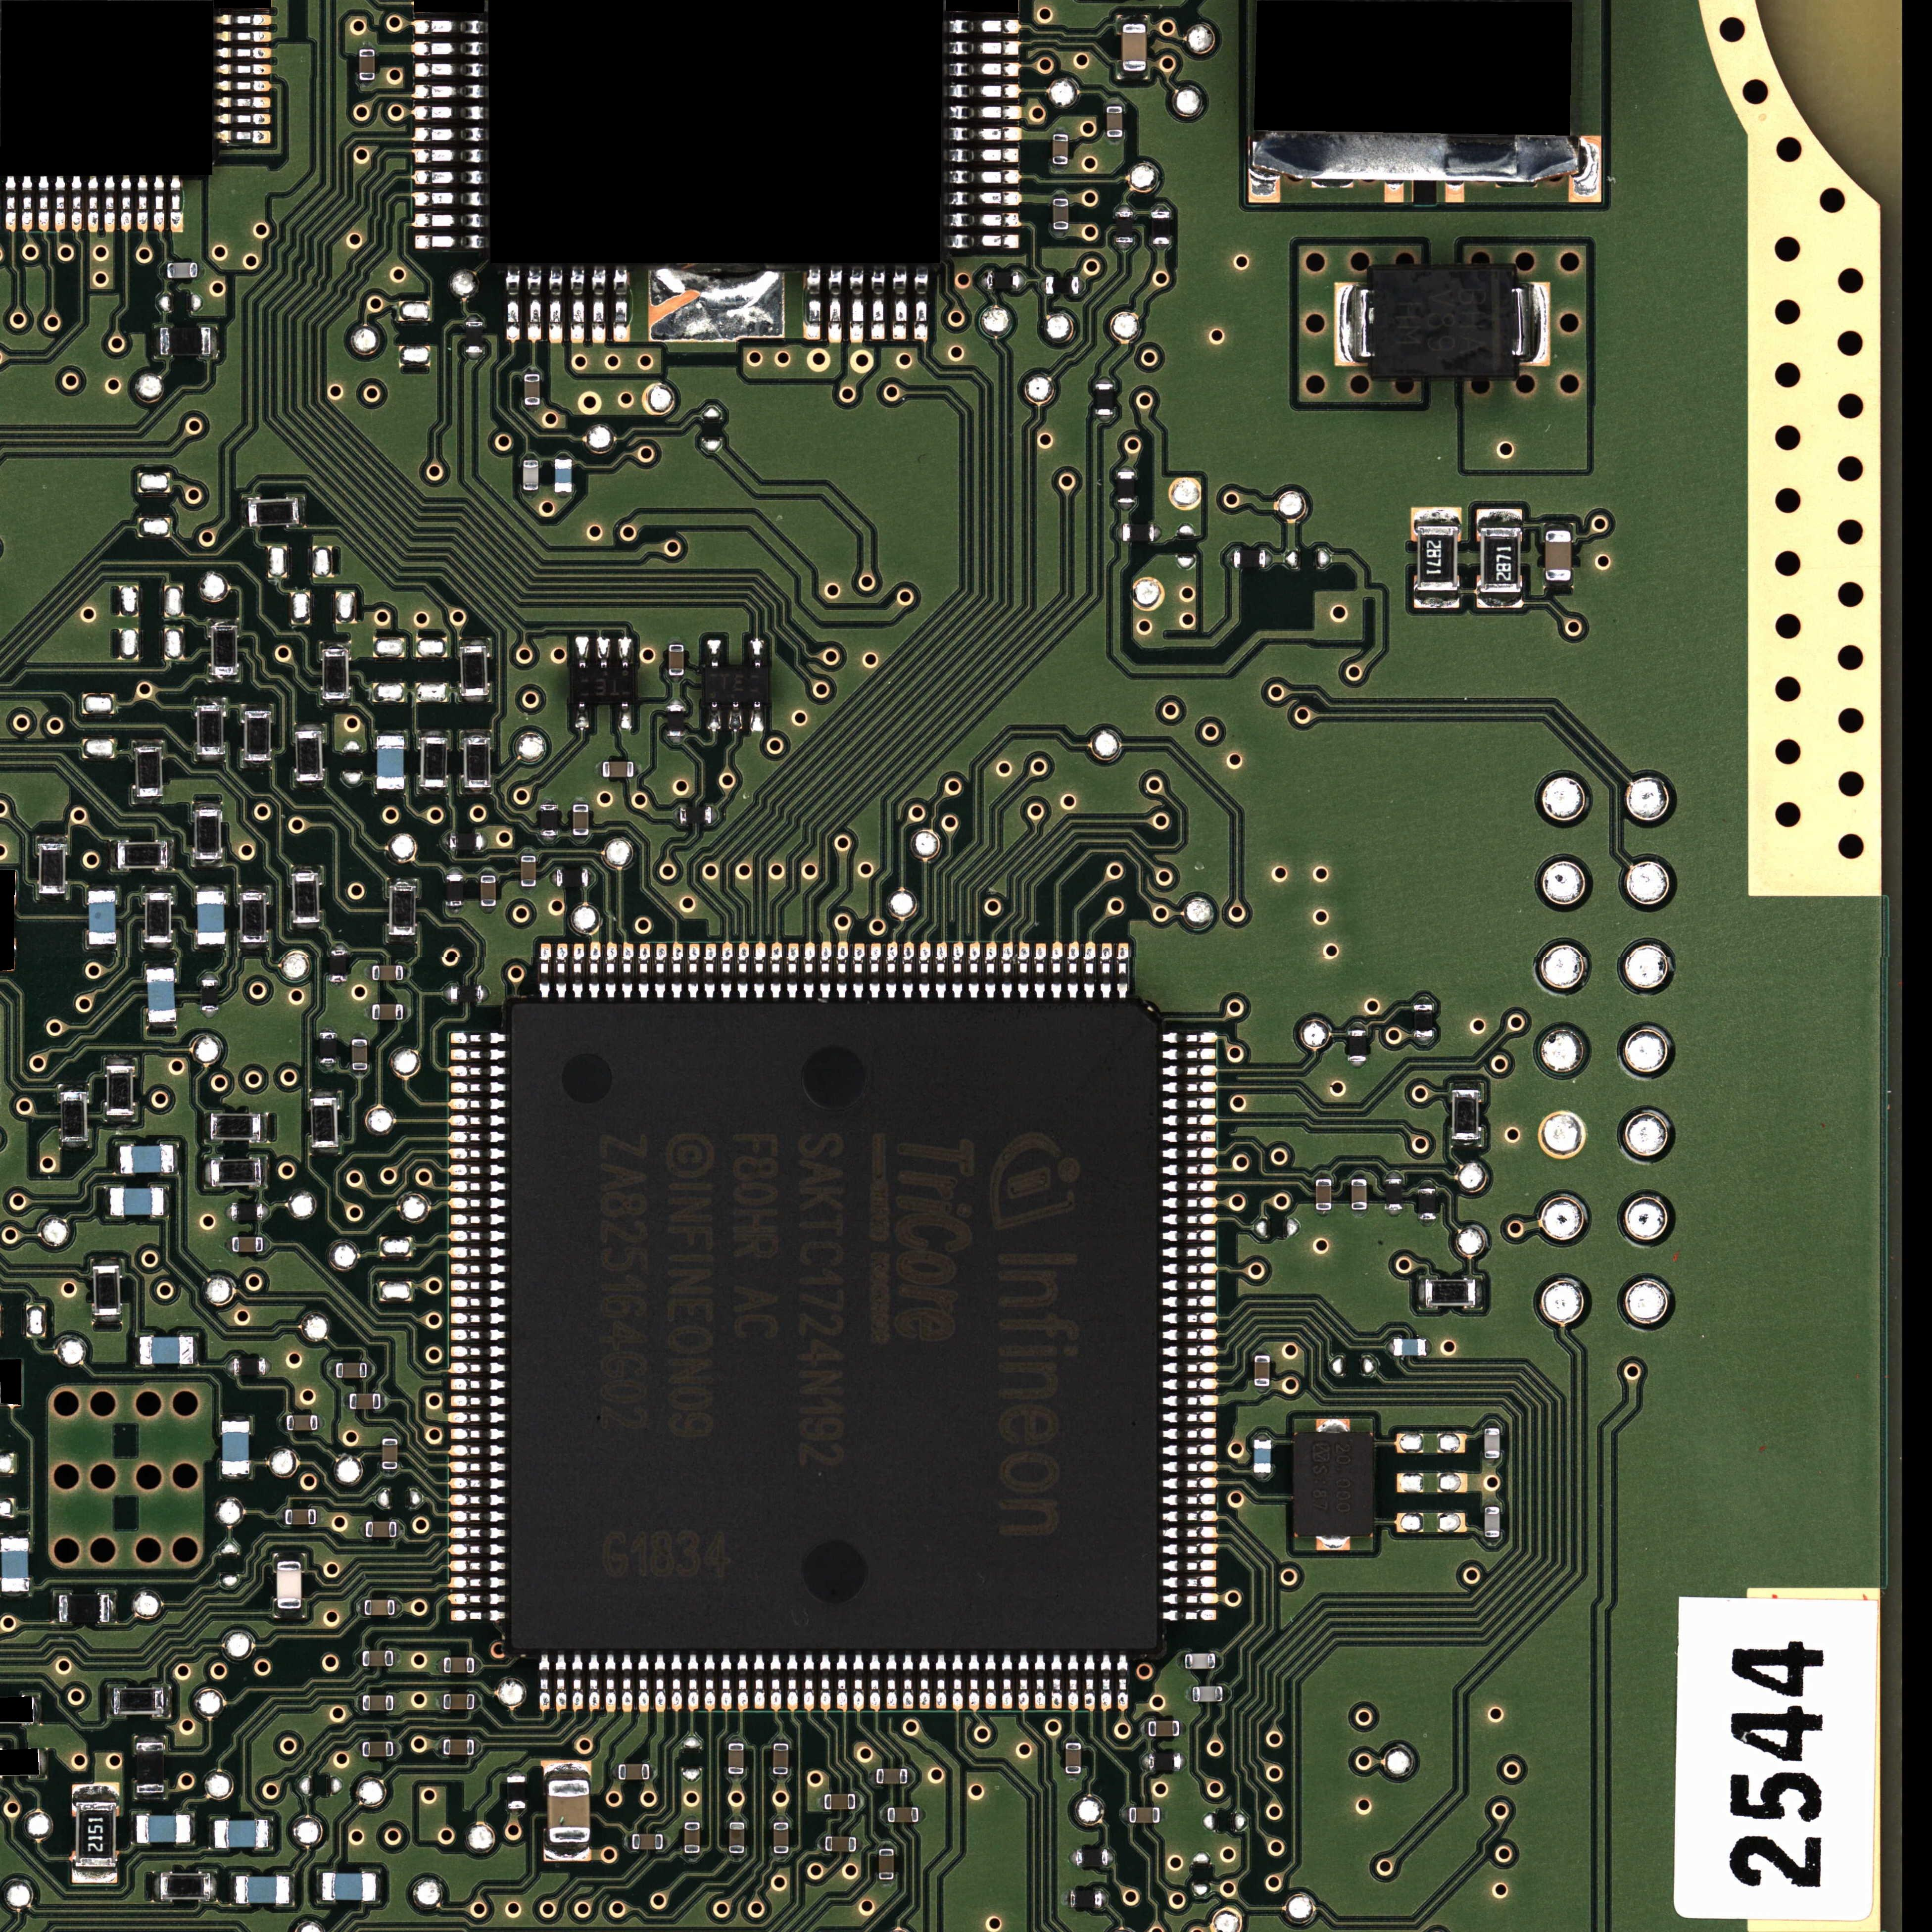Package: (504, 1003, 1160, 1651), (1374, 269, 1511, 377), (1293, 1432, 1374, 1535), (75, 1802, 117, 1867), (1416, 526, 1457, 590), (1480, 528, 1521, 592), (548, 1780, 589, 1842), (703, 667, 769, 702), (572, 667, 634, 702), (322, 1873, 376, 1901), (147, 968, 175, 1022), (215, 1820, 268, 1847), (137, 1815, 190, 1842), (110, 1188, 163, 1215), (140, 1336, 193, 1364), (1, 1539, 29, 1592), (89, 891, 116, 944), (377, 736, 404, 789), (197, 892, 225, 944), (120, 1145, 173, 1173), (237, 1876, 289, 1903), (222, 1421, 249, 1474), (160, 327, 210, 355), (136, 1743, 164, 1792), (1426, 1279, 1475, 1306), (60, 1594, 108, 1622), (1452, 1089, 1479, 1139), (114, 1688, 162, 1714), (248, 499, 298, 525), (1546, 531, 1571, 580), (212, 1159, 260, 1186), (212, 626, 238, 675), (211, 1114, 260, 1140), (323, 649, 348, 699), (461, 646, 486, 695), (145, 893, 171, 943), (195, 809, 220, 859), (390, 885, 415, 935), (421, 738, 446, 787), (118, 843, 167, 868), (40, 844, 64, 893), (465, 738, 489, 787), (296, 731, 321, 781), (108, 1065, 133, 1115), (136, 747, 161, 796), (198, 706, 223, 755), (161, 1874, 209, 1899), (94, 1266, 119, 1315), (293, 873, 318, 922), (245, 711, 270, 760), (62, 1092, 86, 1141), (312, 1098, 336, 1147), (242, 893, 265, 943), (277, 1561, 301, 1608), (1122, 24, 1146, 71), (1045, 276, 1079, 294), (1414, 1004, 1433, 1037), (986, 271, 1019, 290), (1095, 384, 1114, 415), (1418, 1188, 1437, 1219), (1152, 211, 1170, 244), (540, 804, 558, 836), (231, 1202, 263, 1220), (1117, 471, 1135, 503), (555, 459, 572, 492), (1254, 1440, 1271, 1473), (465, 321, 483, 353), (508, 1776, 526, 1808), (200, 979, 219, 1011), (557, 868, 588, 886), (1394, 1339, 1426, 1356), (1234, 550, 1265, 568), (1349, 1030, 1366, 1062), (667, 705, 685, 736), (1385, 1179, 1402, 1210), (679, 807, 711, 824), (330, 950, 347, 982), (450, 833, 482, 850), (1149, 1753, 1180, 1770), (1116, 211, 1133, 242), (1076, 1849, 1108, 1866), (1123, 525, 1155, 541), (234, 1358, 265, 1375), (1315, 1179, 1332, 1210), (1149, 1720, 1179, 1737), (1071, 1891, 1102, 1907), (349, 1394, 381, 1409), (320, 1033, 336, 1063), (447, 875, 463, 906), (359, 49, 375, 80), (525, 374, 540, 405), (336, 1362, 367, 1378), (372, 1004, 403, 1020), (363, 1695, 393, 1711), (1107, 106, 1123, 137), (1484, 1506, 1500, 1537), (1254, 1355, 1270, 1386), (1484, 1428, 1500, 1458), (603, 762, 634, 777), (773, 1743, 788, 1775), (773, 1822, 789, 1853), (443, 1657, 475, 1673), (729, 1822, 744, 1853), (573, 805, 588, 835), (523, 460, 539, 490), (363, 1650, 393, 1666), (287, 1415, 317, 1431), (825, 1794, 855, 1810), (285, 1509, 315, 1525), (443, 1693, 474, 1709), (1129, 1807, 1159, 1823), (1351, 1179, 1367, 1209), (1186, 1653, 1215, 1669), (481, 875, 496, 906), (521, 856, 536, 887), (372, 965, 403, 980), (382, 1438, 397, 1469), (352, 1039, 367, 1070), (232, 1237, 263, 1252), (366, 1522, 396, 1537), (443, 1739, 474, 1755), (684, 1822, 700, 1853), (728, 1743, 744, 1774), (632, 1834, 662, 1849), (167, 263, 197, 278), (365, 1600, 395, 1615), (1053, 134, 1068, 164), (669, 645, 684, 676), (877, 1769, 907, 1784), (362, 1741, 393, 1756), (878, 1849, 894, 1879), (826, 1836, 856, 1852), (619, 1764, 649, 1780), (1054, 199, 1068, 230), (1066, 1743, 1081, 1774), (888, 1807, 918, 1822), (1193, 1686, 1222, 1701)
Solder: (1250, 135, 1603, 202), (648, 269, 785, 342), (1334, 283, 1375, 366), (1512, 282, 1550, 366), (614, 268, 630, 341), (804, 268, 821, 339), (414, 190, 486, 206), (414, 170, 485, 186), (414, 19, 486, 35), (414, 41, 486, 56), (414, 84, 486, 99), (414, 63, 486, 79), (414, 105, 485, 121), (414, 149, 485, 164), (414, 213, 486, 228), (414, 234, 486, 249), (414, 126, 485, 142), (951, 212, 1019, 227), (850, 268, 863, 343), (950, 84, 1020, 98), (951, 105, 1021, 120), (951, 127, 1021, 141), (950, 192, 1020, 206), (871, 267, 885, 340), (915, 266, 928, 341), (893, 266, 907, 341), (828, 268, 841, 343), (949, 19, 1019, 34), (950, 41, 1019, 55), (571, 268, 584, 343), (592, 268, 605, 342), (506, 267, 520, 341), (951, 148, 1020, 163), (950, 234, 1019, 248), (949, 62, 1019, 76), (952, 170, 1021, 184), (550, 268, 563, 343), (528, 267, 541, 341), (72, 1783, 120, 1800), (544, 1843, 590, 1861), (1477, 509, 1523, 527), (1412, 508, 1456, 526), (544, 1762, 591, 1779), (450, 1262, 505, 1276), (450, 1328, 505, 1342), (450, 1229, 505, 1243), (450, 1213, 505, 1227), (450, 1180, 505, 1194), (450, 1576, 505, 1590), (449, 1147, 506, 1160), (449, 1131, 506, 1144), (449, 1543, 505, 1556), (449, 1527, 506, 1540), (449, 1510, 506, 1523), (449, 1494, 506, 1507), (450, 1114, 506, 1127), (450, 1098, 506, 1111), (449, 1460, 505, 1474), (449, 1477, 505, 1490), (449, 1411, 505, 1424), (450, 1246, 505, 1259), (449, 1163, 505, 1177), (450, 1378, 505, 1391), (450, 1312, 505, 1325), (450, 1279, 505, 1292), (450, 1395, 505, 1408), (450, 1427, 505, 1441), (450, 1064, 505, 1078), (450, 1197, 505, 1210), (450, 1559, 505, 1573), (450, 1345, 505, 1358), (450, 1361, 505, 1375), (450, 1593, 505, 1606), (216, 130, 271, 143), (1414, 591, 1457, 608), (72, 1868, 117, 1884), (451, 1296, 505, 1309), (450, 1048, 505, 1061), (450, 1081, 505, 1094), (450, 1444, 505, 1457), (1162, 1328, 1217, 1341), (1162, 1197, 1217, 1209), (451, 1032, 505, 1045), (1162, 1130, 1216, 1143), (1162, 1114, 1216, 1127), (1162, 1180, 1216, 1193), (1084, 1651, 1095, 1712), (1162, 1427, 1216, 1440), (1162, 1048, 1216, 1061), (1162, 1378, 1218, 1390), (1162, 1361, 1218, 1374), (1477, 593, 1523, 608), (1162, 1229, 1215, 1242), (1067, 1651, 1079, 1712), (1161, 1031, 1217, 1044), (1162, 1345, 1217, 1357), (1162, 1395, 1217, 1407), (1162, 1147, 1217, 1159), (704, 1653, 715, 1713), (1018, 1651, 1029, 1711), (1161, 1527, 1218, 1539), (1162, 1312, 1216, 1324), (1162, 1411, 1216, 1423), (1162, 1163, 1216, 1176), (1161, 1559, 1216, 1572), (638, 1654, 649, 1713), (687, 1653, 699, 1712), (853, 1654, 865, 1713), (985, 1651, 996, 1710), (1034, 1651, 1046, 1710), (1117, 1652, 1128, 1711), (1161, 1543, 1217, 1555), (1162, 1296, 1216, 1308), (1162, 1081, 1216, 1094), (1162, 1098, 1216, 1110), (1162, 1064, 1216, 1077), (1162, 1213, 1216, 1226), (1162, 1262, 1216, 1275), (605, 1654, 616, 1712), (703, 951, 716, 1001), (1162, 1279, 1215, 1292), (1162, 1246, 1215, 1258), (836, 1654, 848, 1712), (1161, 1494, 1217, 1505), (1161, 1593, 1217, 1605), (918, 952, 931, 1001), (555, 1654, 567, 1712), (1161, 1576, 1216, 1588), (737, 1654, 748, 1711), (787, 1654, 798, 1711), (655, 1653, 666, 1713), (952, 1652, 963, 1712), (1161, 1609, 1216, 1621), (1101, 1652, 1111, 1711), (836, 951, 849, 1001), (886, 1654, 897, 1710), (1161, 1477, 1218, 1489), (1161, 1510, 1218, 1522), (1161, 1461, 1218, 1472), (171, 176, 183, 232), (786, 952, 799, 1000), (671, 1653, 682, 1712), (968, 1652, 979, 1711), (1051, 1651, 1062, 1710), (1002, 1651, 1013, 1710), (1162, 1444, 1216, 1456), (852, 951, 865, 1001), (671, 951, 683, 1001), (687, 951, 700, 1001), (935, 1654, 947, 1710), (622, 1654, 632, 1712), (451, 1610, 505, 1622), (216, 113, 271, 125), (902, 952, 915, 1001), (935, 952, 948, 1001), (885, 952, 898, 1001), (951, 952, 964, 1001), (869, 952, 881, 1001), (621, 951, 634, 1000), (637, 951, 650, 1000), (654, 951, 667, 1000), (736, 952, 749, 1001), (753, 952, 766, 1001), (770, 952, 782, 1001), (819, 952, 832, 1001), (869, 1654, 880, 1712), (1017, 952, 1030, 1001), (1034, 952, 1047, 1001), (1001, 952, 1014, 1001), (1050, 952, 1063, 1001), (1066, 952, 1079, 1001), (216, 14, 271, 26), (216, 31, 271, 42), (216, 63, 271, 75), (588, 1654, 599, 1712), (539, 1654, 550, 1712), (820, 1654, 831, 1712), (721, 1654, 731, 1712), (555, 952, 568, 1000), (572, 952, 584, 1000), (967, 952, 980, 1000), (720, 952, 733, 1000), (803, 952, 816, 1000), (1100, 952, 1112, 1000), (572, 1654, 583, 1711), (804, 1654, 815, 1711), (771, 1654, 781, 1711), (1083, 951, 1096, 1001), (919, 1654, 930, 1710), (903, 1654, 914, 1710), (754, 1654, 765, 1710), (539, 951, 551, 1000), (984, 952, 997, 1001), (216, 81, 271, 92), (216, 97, 272, 108), (588, 952, 601, 1000), (605, 952, 617, 1000), (216, 48, 271, 58), (1116, 952, 1129, 1000), (55, 176, 65, 232), (121, 176, 132, 232), (5, 176, 15, 232), (22, 176, 32, 232), (39, 176, 48, 232), (72, 176, 82, 232), (89, 176, 98, 232), (105, 176, 115, 232), (154, 176, 164, 232), (138, 175, 148, 231), (1315, 1418, 1350, 1433), (1316, 1535, 1350, 1550), (617, 637, 632, 669), (575, 636, 589, 668), (596, 637, 611, 668), (574, 703, 590, 730), (728, 702, 743, 730), (750, 703, 764, 731), (618, 702, 633, 730), (707, 639, 722, 668), (750, 638, 764, 667), (708, 703, 722, 730), (1475, 1276, 1484, 1310), (105, 1056, 135, 1065), (194, 697, 226, 705), (40, 1748, 48, 1780), (274, 1608, 303, 1617), (1118, 71, 1148, 80), (152, 1872, 161, 1902), (291, 864, 320, 873), (1418, 1277, 1426, 1309), (35, 1695, 43, 1725), (163, 1686, 171, 1718), (134, 796, 163, 805), (59, 1083, 89, 1092), (208, 675, 239, 683), (209, 1871, 217, 1901), (389, 876, 416, 885), (204, 1156, 211, 1189), (93, 1316, 121, 1324), (110, 840, 118, 870), (294, 724, 324, 731), (91, 1258, 121, 1266), (1451, 1140, 1481, 1148), (315, 1870, 323, 1902), (239, 884, 267, 893), (145, 961, 175, 968), (1450, 1082, 1482, 1089), (0, 1530, 30, 1538), (244, 760, 272, 769), (210, 326, 218, 357), (320, 642, 351, 650), (320, 699, 351, 706), (136, 1735, 165, 1742), (241, 496, 248, 527), (260, 1112, 268, 1143), (242, 703, 271, 711), (196, 755, 225, 763), (239, 942, 268, 950), (196, 883, 225, 891), (309, 1090, 338, 1098), (1118, 15, 1147, 23), (208, 618, 239, 626), (167, 840, 174, 870), (221, 1413, 251, 1421), (1, 1593, 31, 1600), (311, 1147, 339, 1155), (261, 1156, 268, 1188), (267, 1818, 274, 1850), (38, 835, 66, 843), (295, 781, 324, 788), (144, 885, 173, 893), (1544, 523, 1573, 530), (147, 1022, 176, 1030), (133, 740, 163, 747), (204, 1111, 211, 1142), (109, 1592, 116, 1623), (107, 1686, 114, 1716), (194, 859, 222, 867), (193, 802, 222, 809), (106, 1115, 134, 1123), (60, 1142, 88, 1150), (87, 884, 117, 891), (135, 1792, 165, 1799), (52, 1592, 59, 1622), (163, 1185, 169, 1217), (173, 1143, 179, 1175), (375, 1870, 382, 1902), (195, 944, 225, 951), (298, 496, 305, 526), (229, 1874, 236, 1904), (154, 326, 160, 358), (193, 1334, 199, 1365), (289, 1874, 295, 1905), (388, 935, 415, 942), (38, 893, 65, 901), (461, 696, 488, 703), (131, 1813, 137, 1844), (208, 1818, 215, 1849), (145, 943, 173, 950), (275, 1553, 303, 1560), (1544, 581, 1572, 588), (420, 730, 447, 737), (292, 923, 321, 930), (221, 1474, 249, 1481), (103, 1186, 110, 1216), (460, 638, 487, 645), (463, 730, 490, 737), (134, 1336, 140, 1366), (190, 1814, 195, 1844), (114, 1144, 120, 1173), (376, 730, 405, 736), (87, 944, 116, 950), (420, 787, 446, 793), (240, 950, 268, 956), (1062, 1888, 1070, 1908), (159, 262, 168, 279), (1413, 997, 1433, 1005), (1120, 1806, 1129, 1824), (1159, 1806, 1168, 1824), (377, 789, 404, 794), (683, 1853, 700, 1862), (200, 1011, 219, 1019), (1096, 376, 1114, 384), (1348, 1022, 1366, 1030), (1253, 1473, 1271, 1481), (464, 787, 490, 793), (918, 1806, 927, 1823), (1265, 550, 1273, 568), (197, 262, 205, 279), (1141, 1753, 1149, 1771), (465, 352, 483, 360), (1117, 504, 1135, 511), (358, 80, 375, 88), (359, 42, 376, 49), (524, 405, 541, 413), (555, 451, 572, 459), (1386, 1339, 1394, 1355), (276, 1509, 285, 1524), (1349, 1061, 1366, 1068), (1254, 1432, 1271, 1440), (1414, 1037, 1433, 1044), (382, 1431, 398, 1439), (523, 490, 539, 498), (683, 1814, 700, 1822), (907, 1768, 915, 1785), (1316, 1171, 1332, 1179), (1223, 1686, 1231, 1702), (1177, 1653, 1185, 1669), (1484, 1458, 1500, 1466), (1418, 1180, 1436, 1188), (1419, 1220, 1436, 1227), (1385, 1171, 1402, 1179), (1426, 1339, 1433, 1356), (507, 1769, 526, 1776), (625, 1834, 632, 1850), (817, 1836, 825, 1852), (728, 1854, 744, 1862), (817, 1794, 824, 1810), (1155, 525, 1162, 541), (1484, 1538, 1500, 1546), (224, 1204, 231, 1220), (773, 1853, 789, 1861), (1226, 551, 1234, 568), (1068, 1849, 1076, 1866), (772, 1774, 788, 1782), (869, 1768, 876, 1785), (728, 1736, 744, 1743), (1065, 1774, 1081, 1782), (1065, 1736, 1081, 1743), (1180, 1753, 1188, 1770), (1215, 1653, 1223, 1669), (465, 314, 483, 321), (1385, 1210, 1402, 1217), (265, 1359, 273, 1375), (523, 453, 538, 460), (541, 836, 557, 844), (483, 986, 490, 1002), (611, 1764, 619, 1780), (773, 1815, 789, 1822), (663, 1834, 671, 1849), (649, 1764, 657, 1780), (729, 1815, 745, 1822), (1053, 191, 1068, 198), (1107, 137, 1123, 145), (1352, 1210, 1367, 1217), (1315, 1210, 1331, 1218), (1179, 1721, 1187, 1737), (201, 972, 218, 979), (319, 1064, 336, 1071), (1108, 1849, 1115, 1866), (436, 1739, 443, 1755), (355, 1741, 362, 1757), (880, 1807, 887, 1822), (878, 1880, 894, 1887), (1053, 230, 1068, 237), (1351, 1172, 1366, 1179), (1185, 1687, 1193, 1702), (1484, 1499, 1499, 1506), (382, 1469, 398, 1476), (728, 1774, 744, 1781), (1116, 242, 1132, 249), (1141, 1721, 1148, 1737), (554, 492, 572, 499), (474, 1739, 481, 1754), (358, 1522, 366, 1537), (358, 1600, 365, 1615), (395, 1600, 403, 1615), (524, 367, 540, 374), (588, 869, 595, 885), (573, 798, 588, 805), (711, 807, 718, 823), (855, 1793, 862, 1809), (475, 1657, 482, 1673), (475, 1693, 481, 1710), (262, 1204, 269, 1219), (396, 1522, 403, 1537), (669, 676, 684, 682), (669, 638, 684, 645), (540, 798, 556, 805), (1053, 127, 1068, 134), (1053, 164, 1068, 171), (1255, 1349, 1270, 1355), (393, 1650, 400, 1666), (1096, 416, 1113, 422), (1152, 205, 1168, 212), (1116, 205, 1132, 211), (1154, 244, 1170, 250), (356, 1651, 363, 1666), (393, 1742, 400, 1756), (356, 1695, 363, 1710), (508, 1809, 525, 1815), (879, 1842, 894, 1849), (393, 1695, 400, 1710), (436, 1657, 443, 1672), (228, 1359, 234, 1375), (320, 1027, 336, 1034), (596, 761, 603, 777), (1102, 1890, 1108, 1907), (436, 1693, 442, 1710), (316, 1509, 323, 1524), (773, 1737, 788, 1743), (1116, 525, 1122, 540), (979, 274, 986, 288), (447, 907, 462, 913), (317, 1415, 324, 1430), (669, 736, 683, 743), (550, 870, 556, 885), (856, 1837, 863, 1852), (1255, 1386, 1269, 1393), (226, 1237, 232, 1252), (281, 1416, 287, 1430), (574, 835, 588, 842), (633, 761, 639, 776), (674, 808, 680, 823), (1107, 100, 1122, 106), (1118, 466, 1134, 472), (263, 1237, 269, 1252), (669, 699, 683, 705), (1039, 277, 1045, 292), (332, 943, 345, 950), (331, 981, 345, 987), (1019, 273, 1025, 287), (444, 834, 450, 848), (521, 850, 535, 856), (448, 869, 461, 875), (1079, 279, 1085, 292), (352, 1034, 366, 1040), (367, 1005, 373, 1019), (366, 1364, 372, 1377), (330, 1364, 336, 1377), (1485, 1422, 1498, 1428), (367, 966, 373, 979), (344, 1395, 350, 1408), (522, 887, 535, 892), (482, 907, 495, 912), (352, 1069, 367, 1074), (481, 835, 486, 849), (403, 966, 408, 979), (403, 1006, 408, 1018), (380, 1395, 385, 1408), (482, 870, 494, 875)
